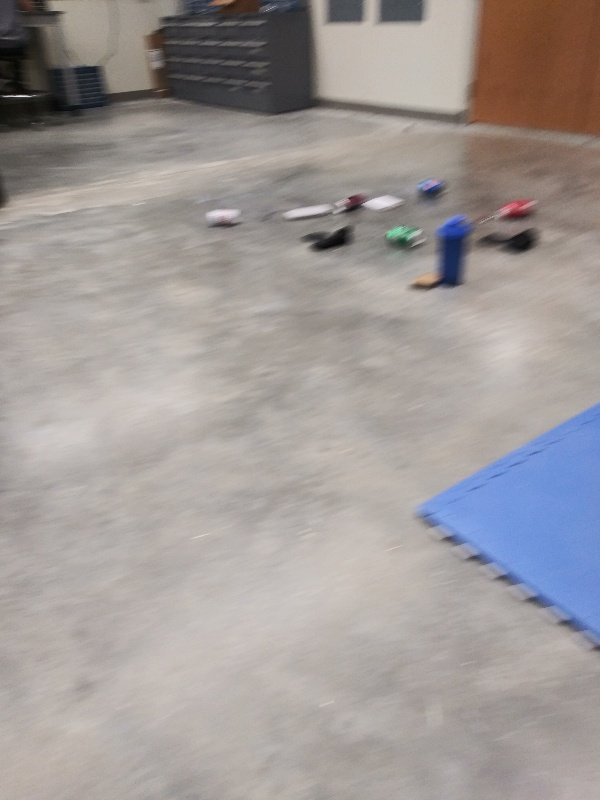can: (496, 197, 541, 220), (385, 225, 426, 249), (206, 208, 245, 230), (333, 193, 368, 217), (415, 178, 449, 198)
